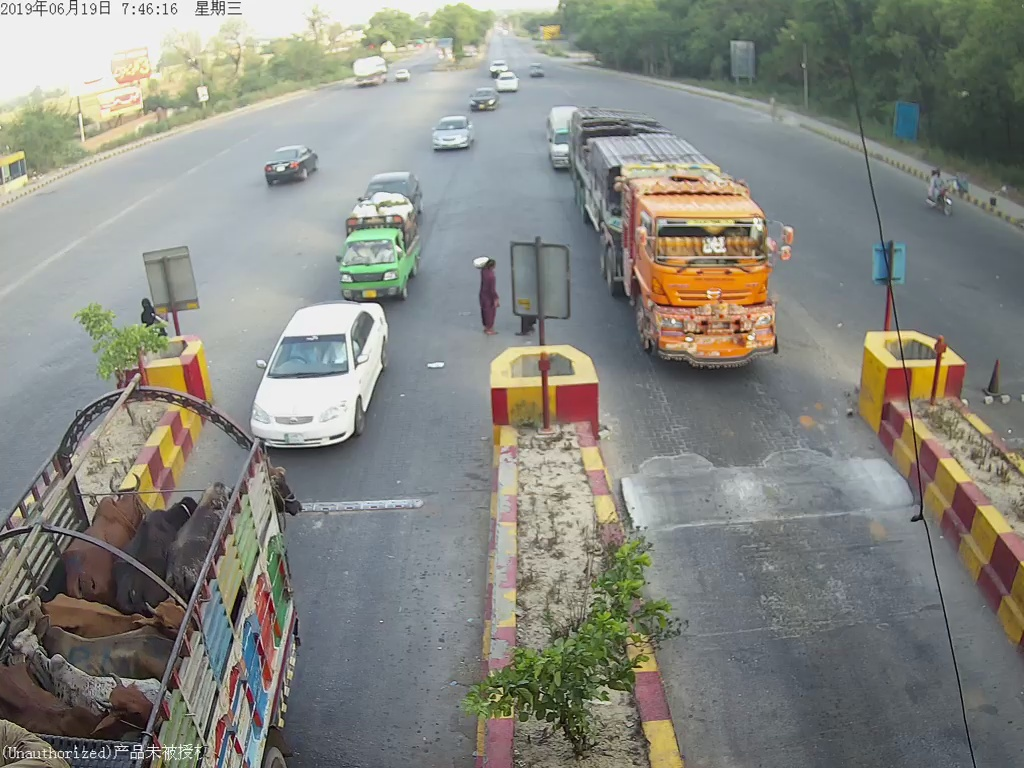Cat-1: (250, 308, 404, 449)
Cat-5: (577, 112, 790, 375)
